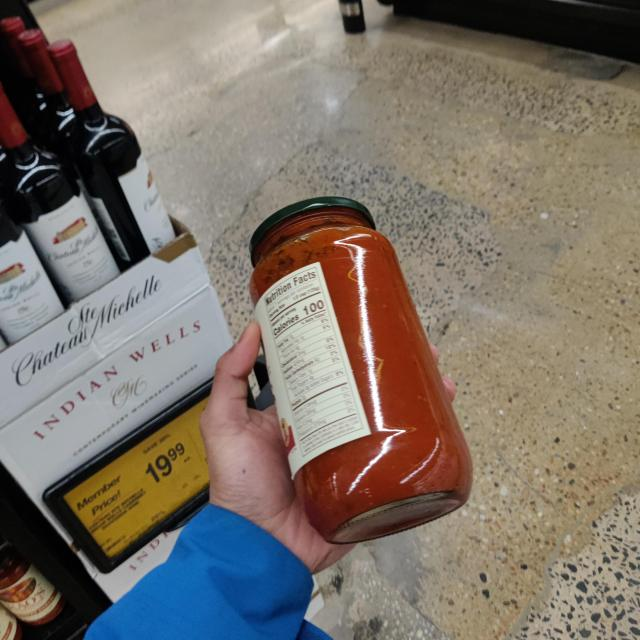Sauce: (248, 192, 478, 542)
